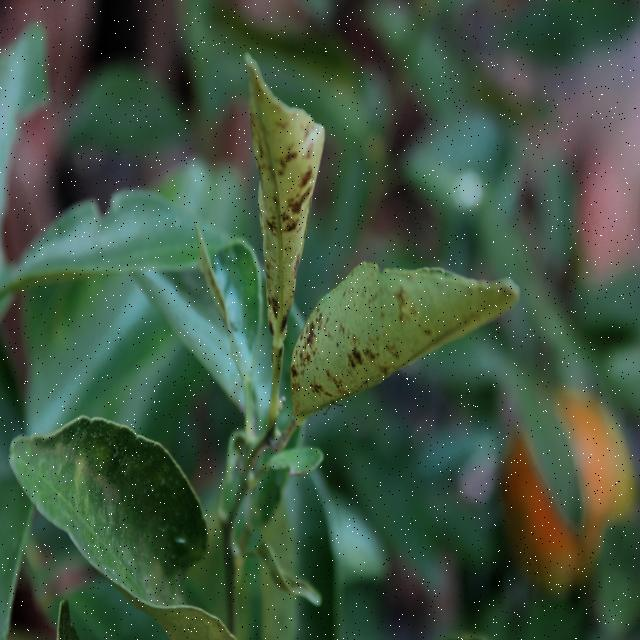melanose: (283, 254, 523, 436), (234, 46, 331, 358)
